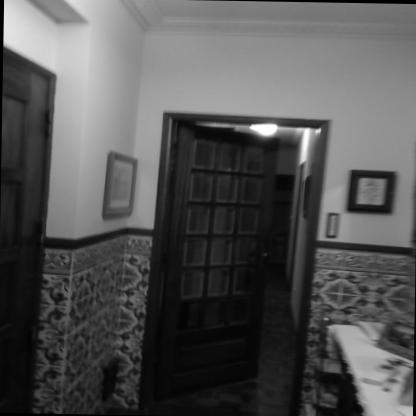semi: (140, 100, 338, 416)
